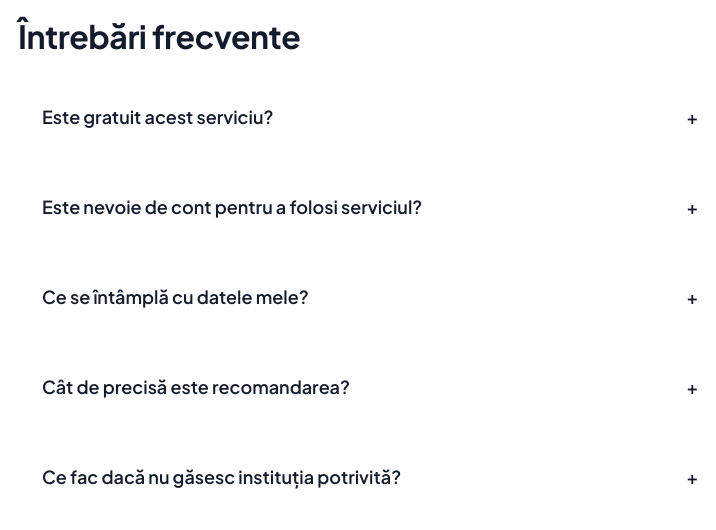
Scenario: IntrebariFrecventePage › hides answers until their question is clicked, then reveals just that answer
expect the text "Da, Unde Merg? este complet gratuit și nu necesită niciun abonament." is not shown: met
Click the button "Este gratuit acest serviciu? +": (158, 116) [42, 104, 698, 130]
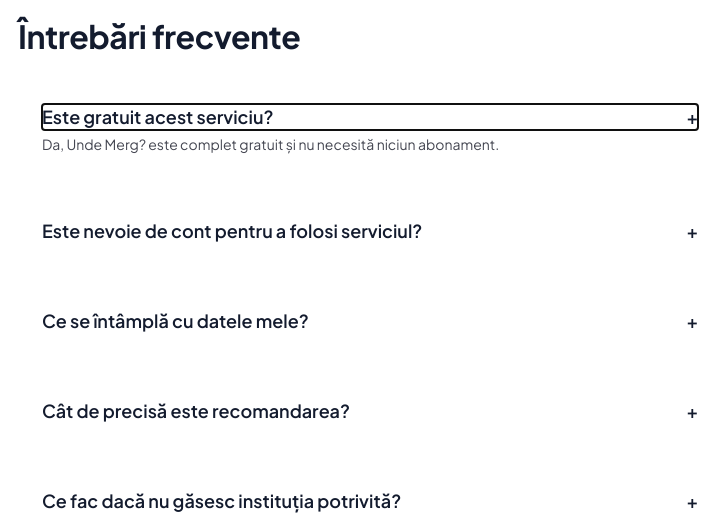
expect the text "Da, Unde Merg? este complet gratuit și nu necesită niciun abonament." is shown: met, box [42, 135, 499, 153]
